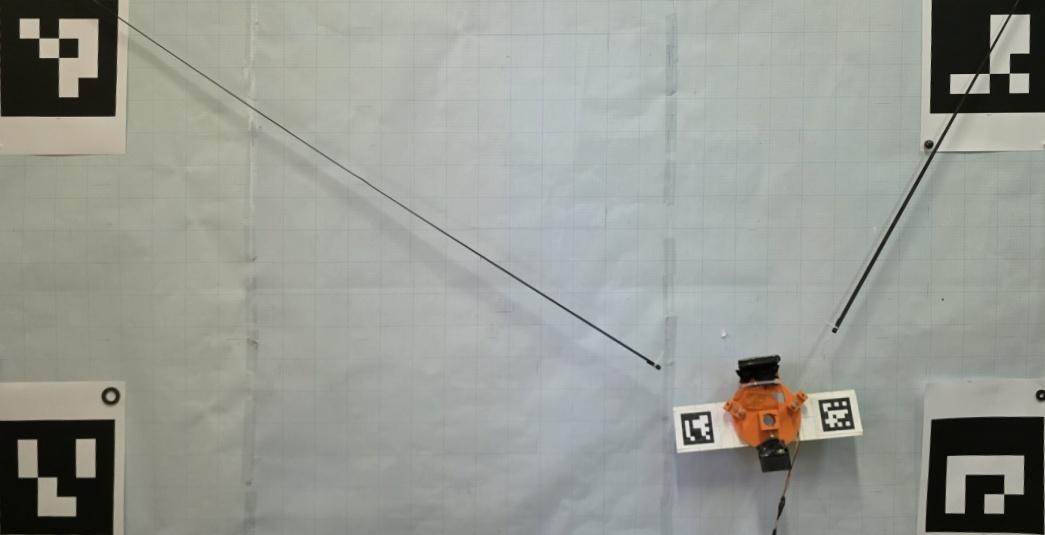robot: (725, 355, 809, 474)
